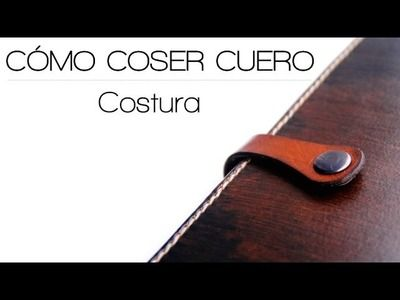cuero: (147, 37, 400, 262)
